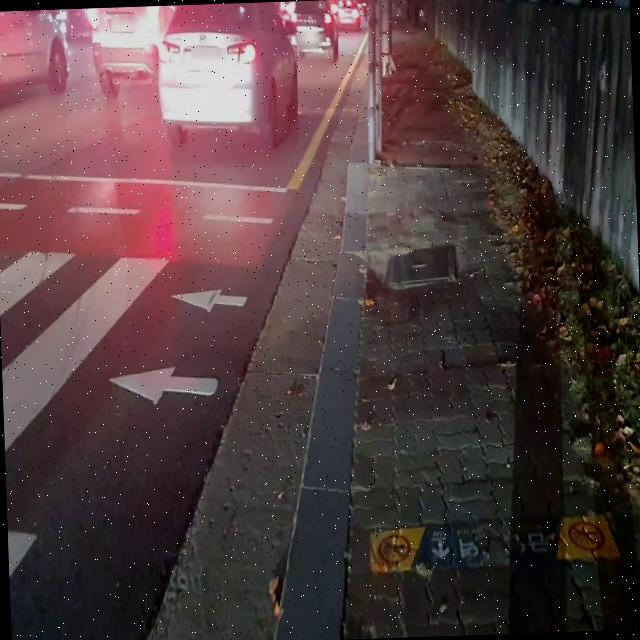crosswalk: (0, 246, 263, 640)
